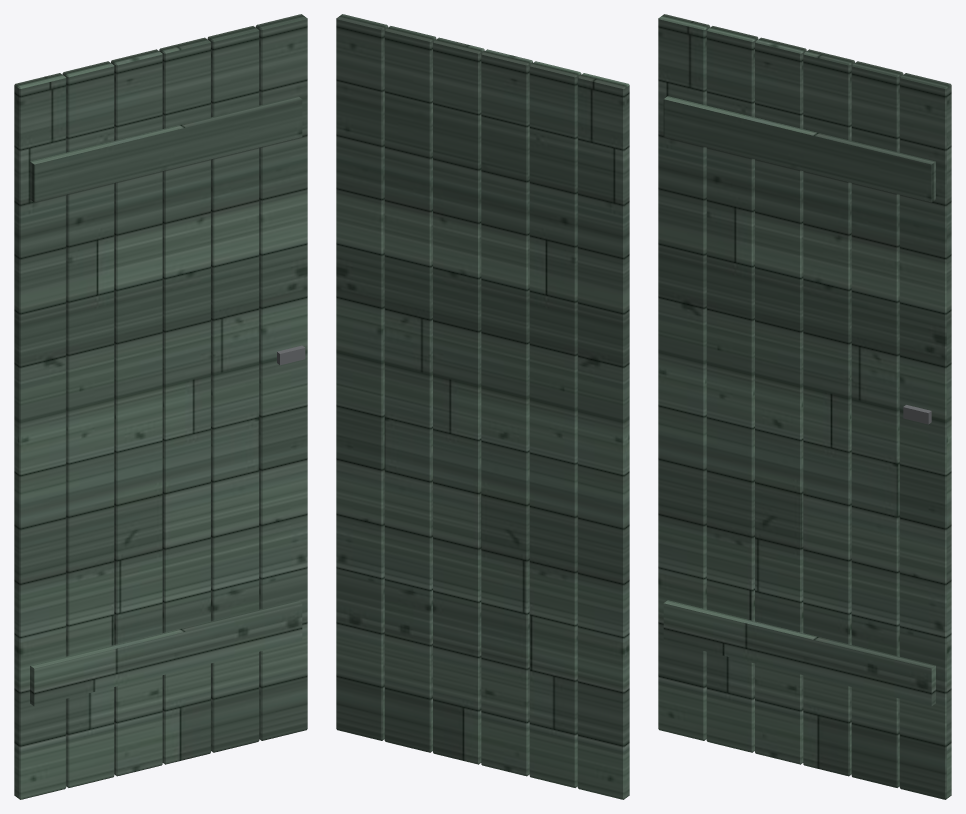
Rendered from shed_door.glb.
The picture shows the model from 3 angles, left to right: view 1: azimuth 30°, elevation 25°; view 2: azimuth 150°, elevation 25°; view 3: azimuth 330°, elevation 25°; orthographic projection.
Visible parts, largest first — view 1: shed_door_shed; view 2: shed_door_shed; view 3: shed_door_shed.
Boxes of the visible parts, x1,y1,x2,y2 form: shed_door_shed: [14, 14, 307, 799]; shed_door_shed: [336, 14, 629, 799]; shed_door_shed: [658, 14, 951, 799].
Bounding box in the file's own units: 0.796 × 1.88 × 0.065.
2 materials, 1 textured.
